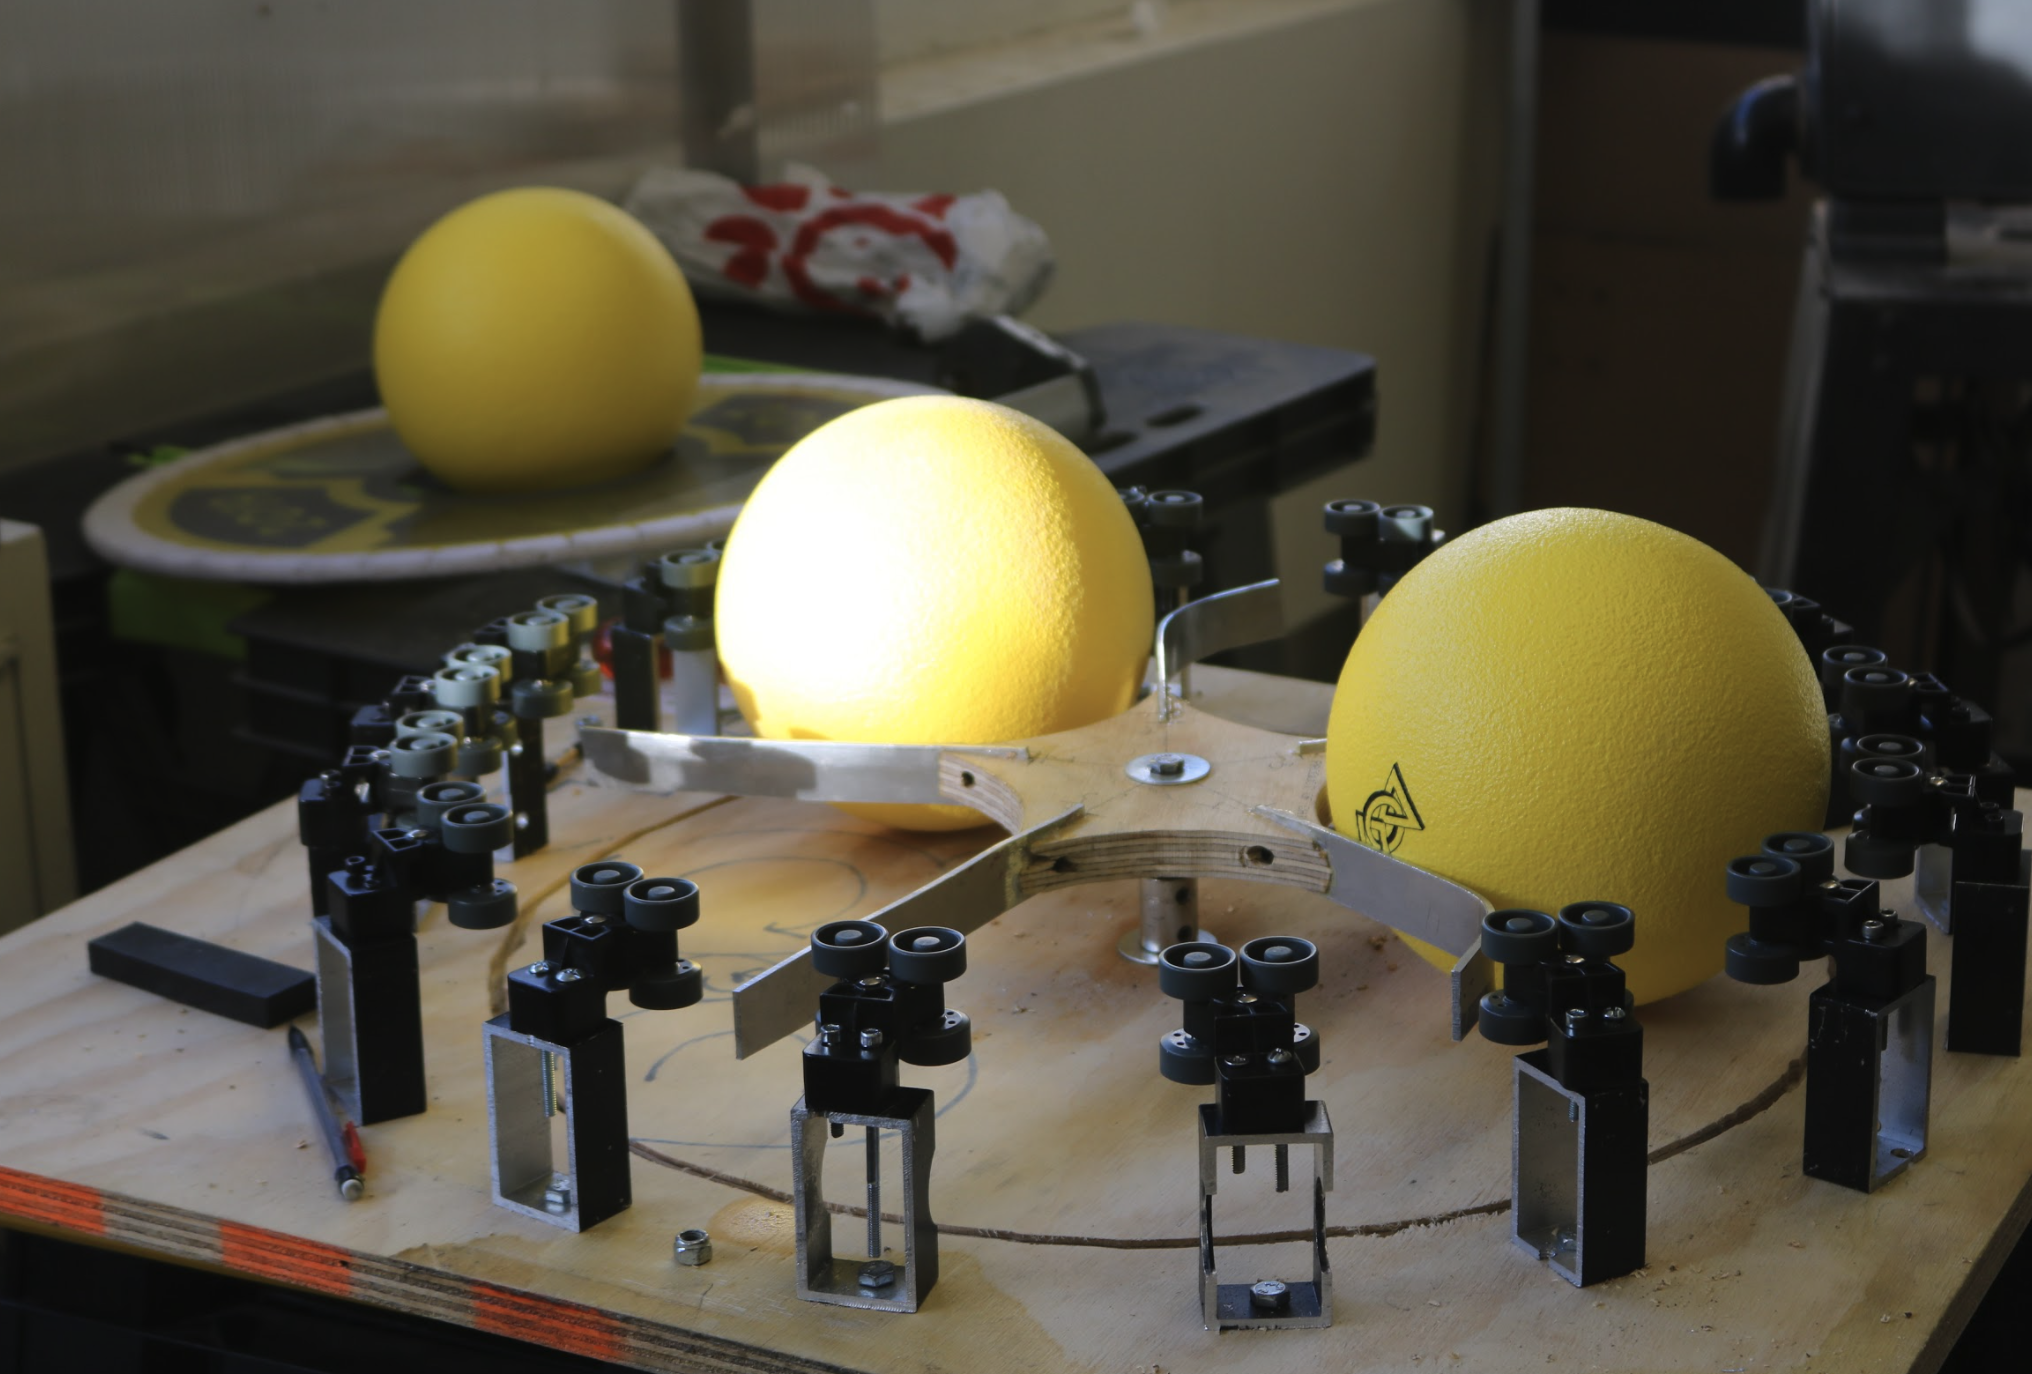powercell: (1284, 495, 1851, 1012), (702, 431, 1156, 825), (367, 209, 732, 492)
